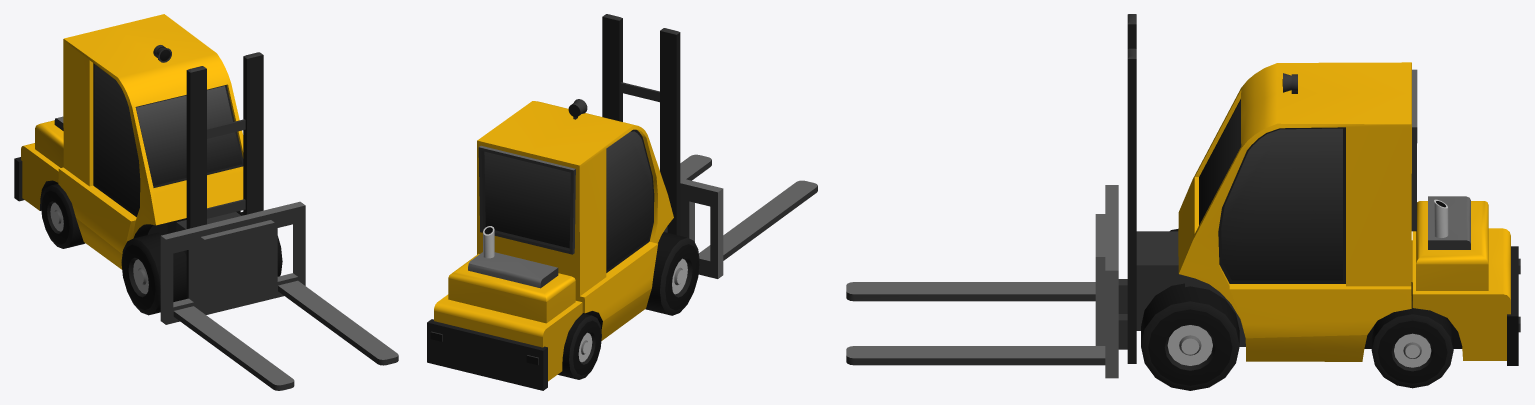
The model's file is ChaChe00.fbx.
The picture shows the model from 3 angles, left to right: view 1: azimuth 30°, elevation 25°; view 2: azimuth 150°, elevation 25°; view 3: azimuth 270°, elevation 25°; orthographic projection. The views are drawn at different scales.
Visible parts, largest first — view 1: ChaChe00; view 2: ChaChe00; view 3: ChaChe00.
Boxes of the visible parts, bbox=[...] form: ChaChe00: bbox=[14, 14, 398, 390]; ChaChe00: bbox=[427, 14, 817, 390]; ChaChe00: bbox=[846, 14, 1520, 390].
Bounding box in the file's own units: 173 × 300 × 575.
